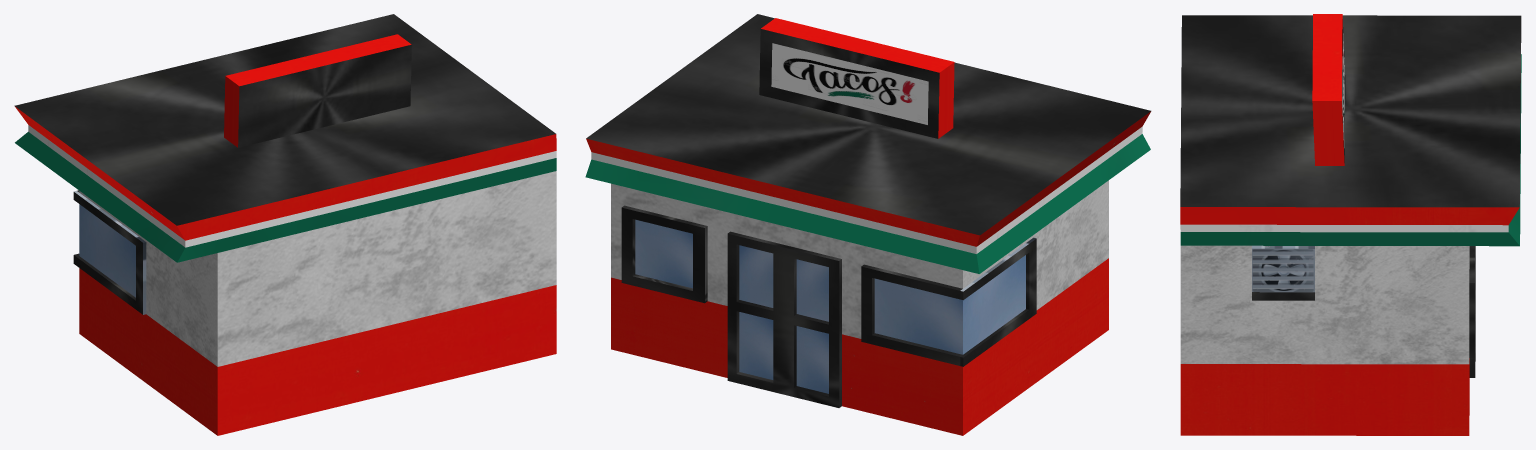
Rendered from comida.obj.
3 renders of one model, left to right at view 1: azimuth 30°, elevation 25°; view 2: azimuth 150°, elevation 25°; view 3: azimuth 270°, elevation 25°, orthographic. The views are drawn at different scales.
Parts seen in each view (by area): view 1: Cube; view 2: Cube; view 3: Cube.
Part boxes in pixels (x1=…): Cube: x1=14, y1=14, x2=556, y2=435; Cube: x1=585, y1=14, x2=1151, y2=435; Cube: x1=1180, y1=14, x2=1521, y2=435.
Size of the model in its own units: 486 by 341 by 360.
1 material, 1 textured.
